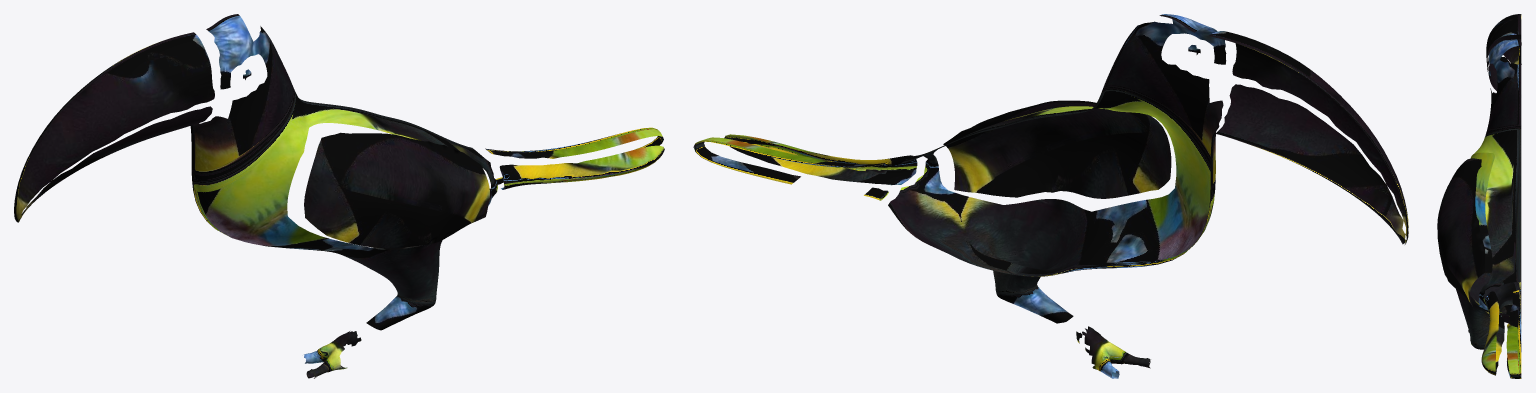
The model's file is toucan.glb.
The picture shows the model from 3 angles, left to right: view 1: azimuth 30°, elevation 25°; view 2: azimuth 150°, elevation 25°; view 3: azimuth 270°, elevation 25°; orthographic projection. The views are drawn at different scales.
Visible parts, largest first — view 1: m0; view 2: m0; view 3: m0.
Boxes of the visible parts, box(x1,y1,x2,y2) form: m0: box(14, 14, 664, 378); m0: box(693, 14, 1408, 378); m0: box(1437, 14, 1521, 378).
Size of the model in its own units: 0.55 by 0.2877 by 0.0803.
Materials: 1 (1 with a texture image).
